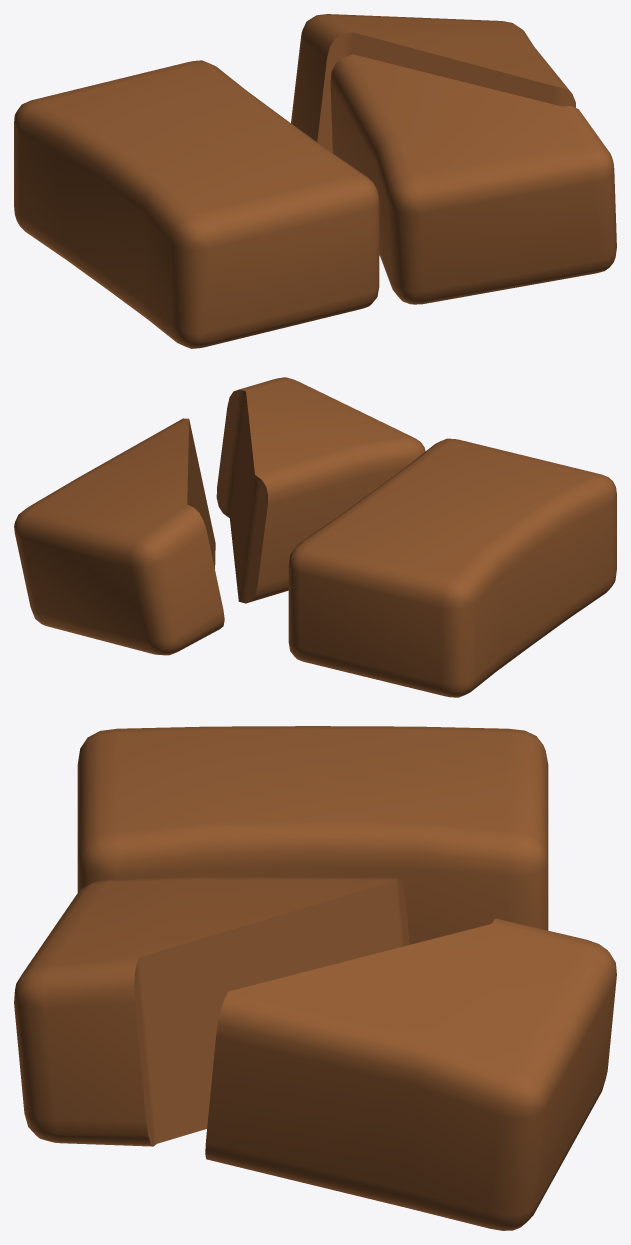
The picture shows the model from 3 angles, top to bottom: view 1: azimuth 30°, elevation 25°; view 2: azimuth 150°, elevation 25°; view 3: azimuth 270°, elevation 25°; orthographic projection. The views are drawn at different scales.
Parts seen in each view (by area): view 1: SM_硬糖; view 2: SM_硬糖; view 3: SM_硬糖.
Boxes of the visible parts, left/top/right/bottom form: SM_硬糖: left=14, top=14, right=616, bottom=348; SM_硬糖: left=14, top=377, right=616, bottom=697; SM_硬糖: left=14, top=726, right=616, bottom=1230.
Size of the model in its own units: 0.0321 by 0.0109 by 0.0256.
